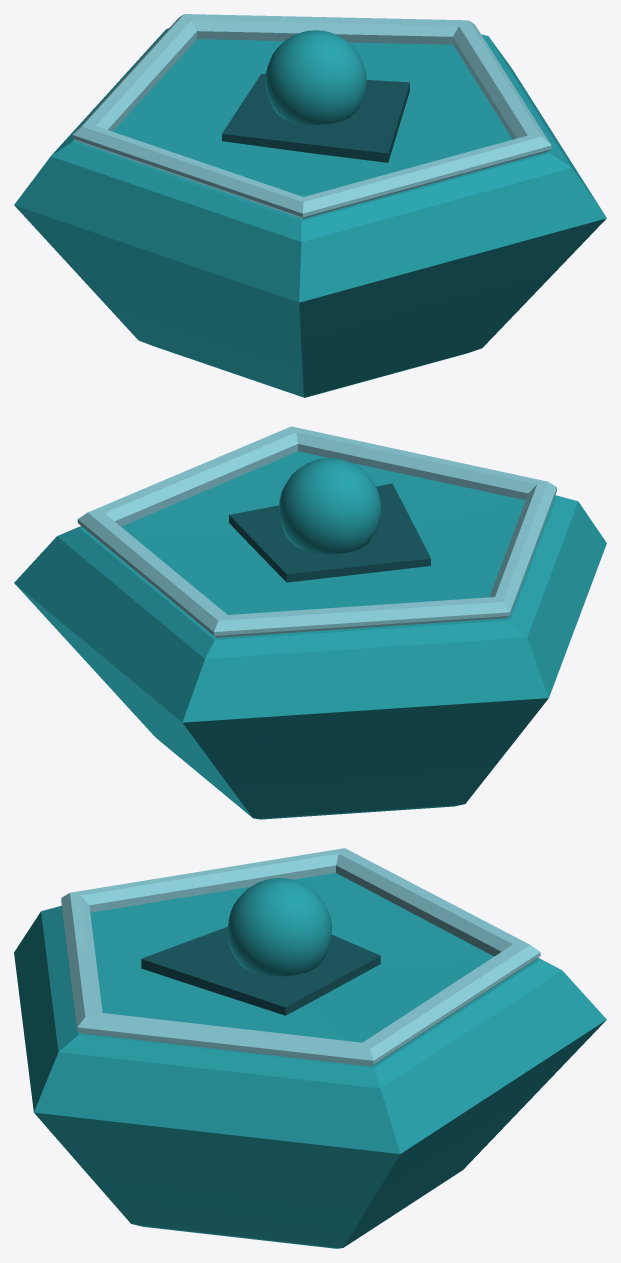
The model's file is Small Relic.fbx.
3 renders of one model, top to bottom at view 1: azimuth 30°, elevation 25°; view 2: azimuth 150°, elevation 25°; view 3: azimuth 270°, elevation 25°, orthographic. The views are drawn at different scales.
Visible parts, largest first — view 1: polySurface45; view 2: polySurface45; view 3: polySurface45.
Boxes of the visible parts, x1=… form: polySurface45: x1=14, y1=14, x2=606, y2=397; polySurface45: x1=14, y1=426, x2=606, y2=819; polySurface45: x1=14, y1=848, x2=606, y2=1248.
Size of the model in its own units: 0.7733 by 0.4228 by 0.748.
